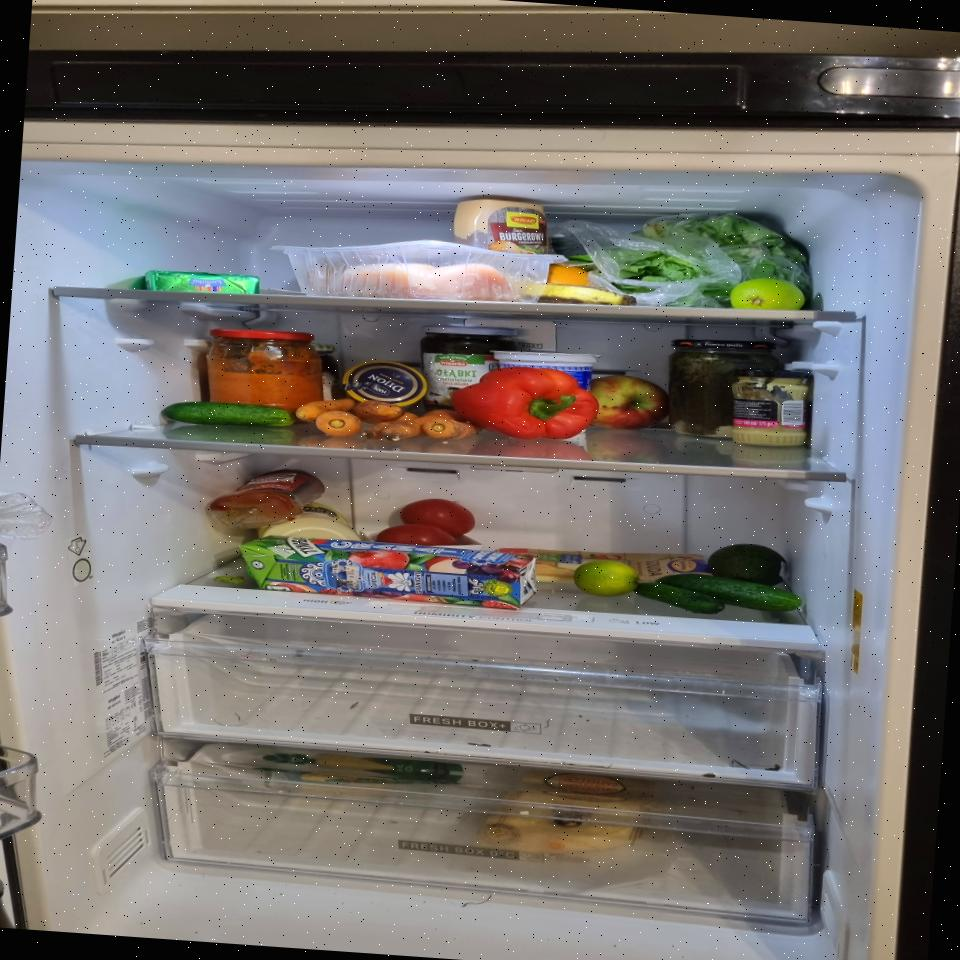Aguacate: (711, 542, 787, 585)
Carne pollo: (270, 230, 566, 311)
Lechuga/Endivia: (588, 210, 822, 314)
Mantequilla: (144, 268, 264, 299)
Manzana: (590, 376, 672, 430)
Pepino: (640, 570, 802, 622), (162, 398, 294, 431)
Plátano: (514, 280, 637, 310)
Queso: (474, 766, 650, 860), (493, 540, 714, 594), (297, 753, 396, 799)
Tomate: (398, 494, 478, 536), (377, 522, 459, 548)
Yogur: (487, 348, 602, 395)
Zanahoria: (297, 395, 480, 446)
bell pepper: (452, 364, 600, 444)
ketchup: (207, 463, 326, 533)
lime: (573, 558, 639, 600), (731, 278, 803, 316)
mayonnaise: (259, 498, 363, 544)
mustard: (728, 368, 815, 448)
orange: (544, 263, 592, 287)
